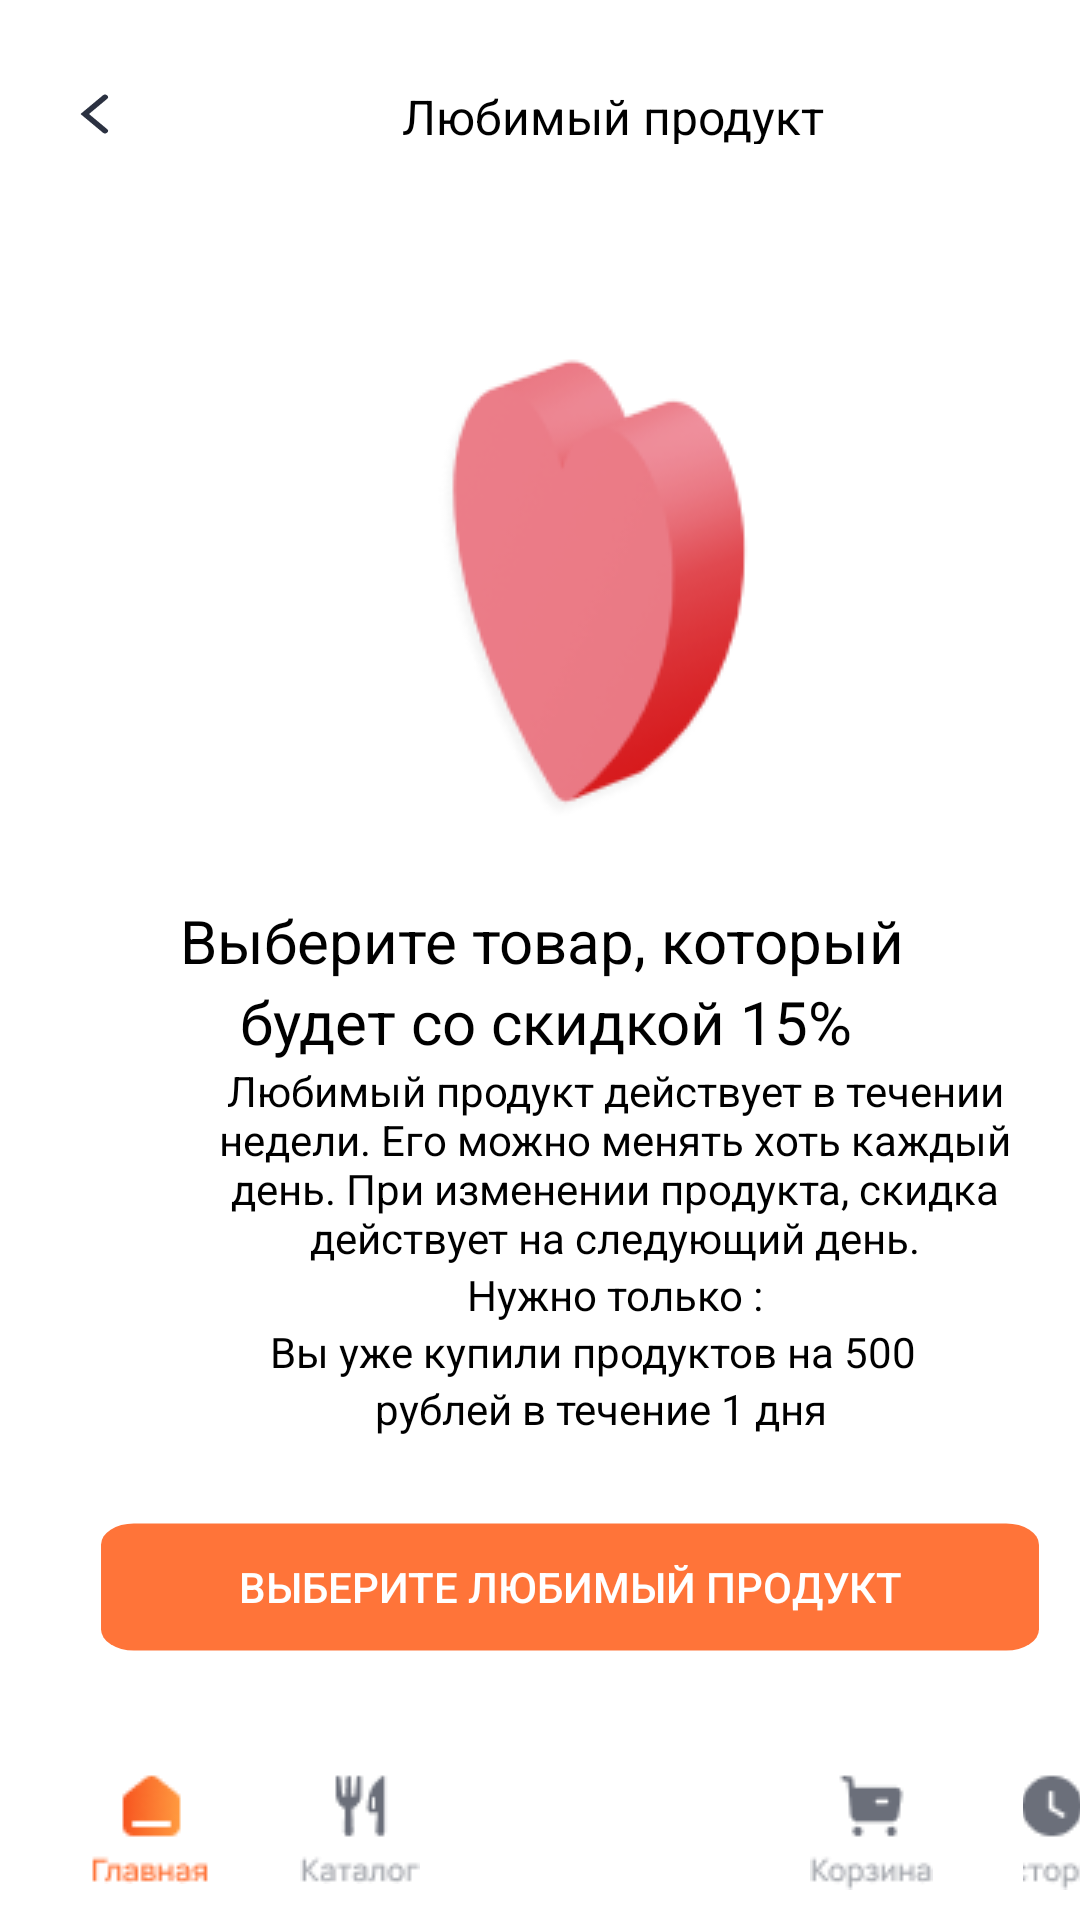

Icons on this 1080 x 1920 Android screen, each with the point to tap as point (x, y):
arrow: point (94, 114)
